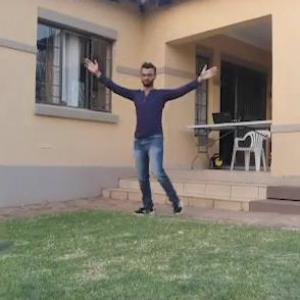takeoff: (82, 56, 224, 214)
